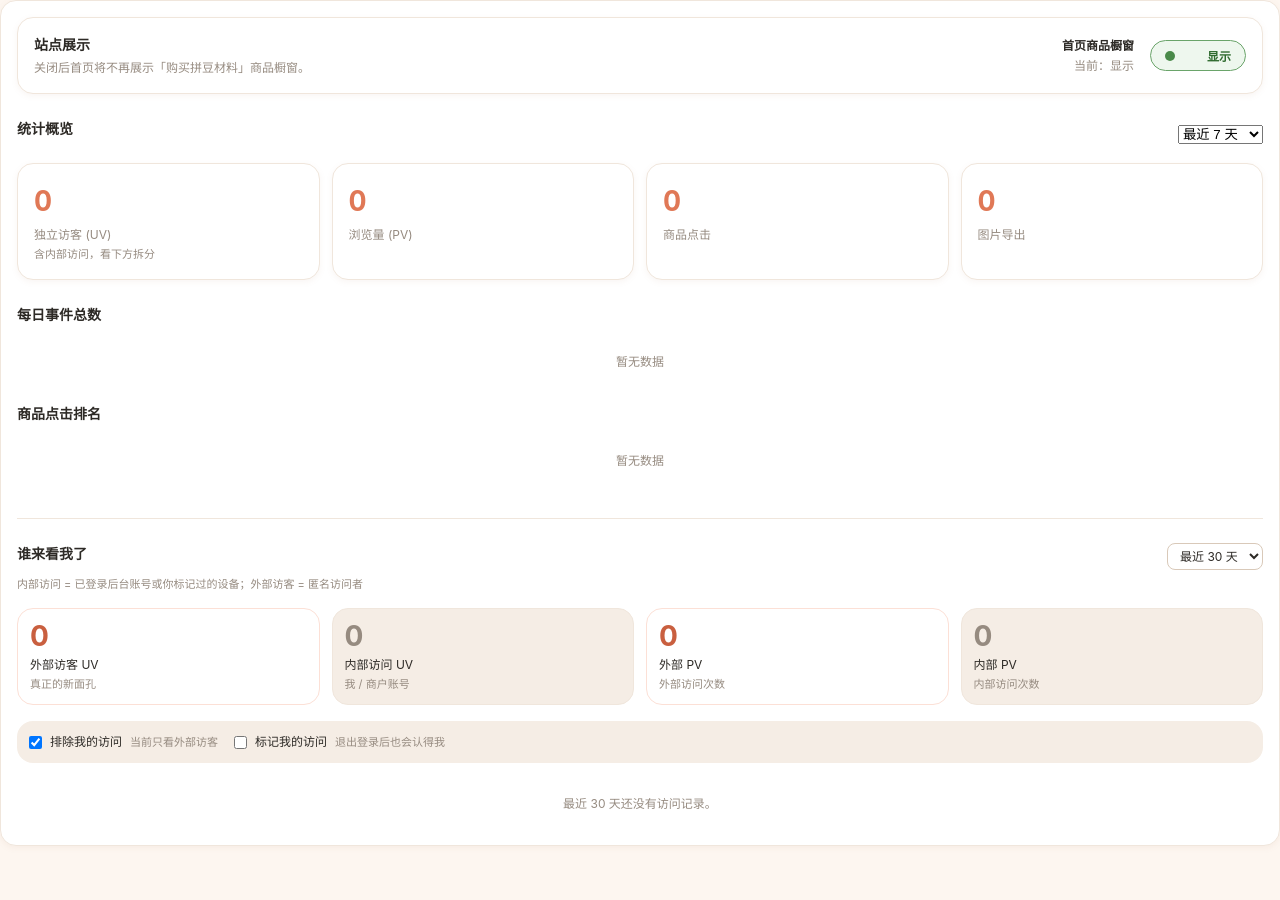
Test: StatsTab site display card (admin only) › toggles showProducts and persists via PUT
Check: the text "当前：显示" is shown, box [1074,56,1134,74]
Click the button with test id "site-toggle-products".
click(1198, 56)  # box [1150,40,1246,71]
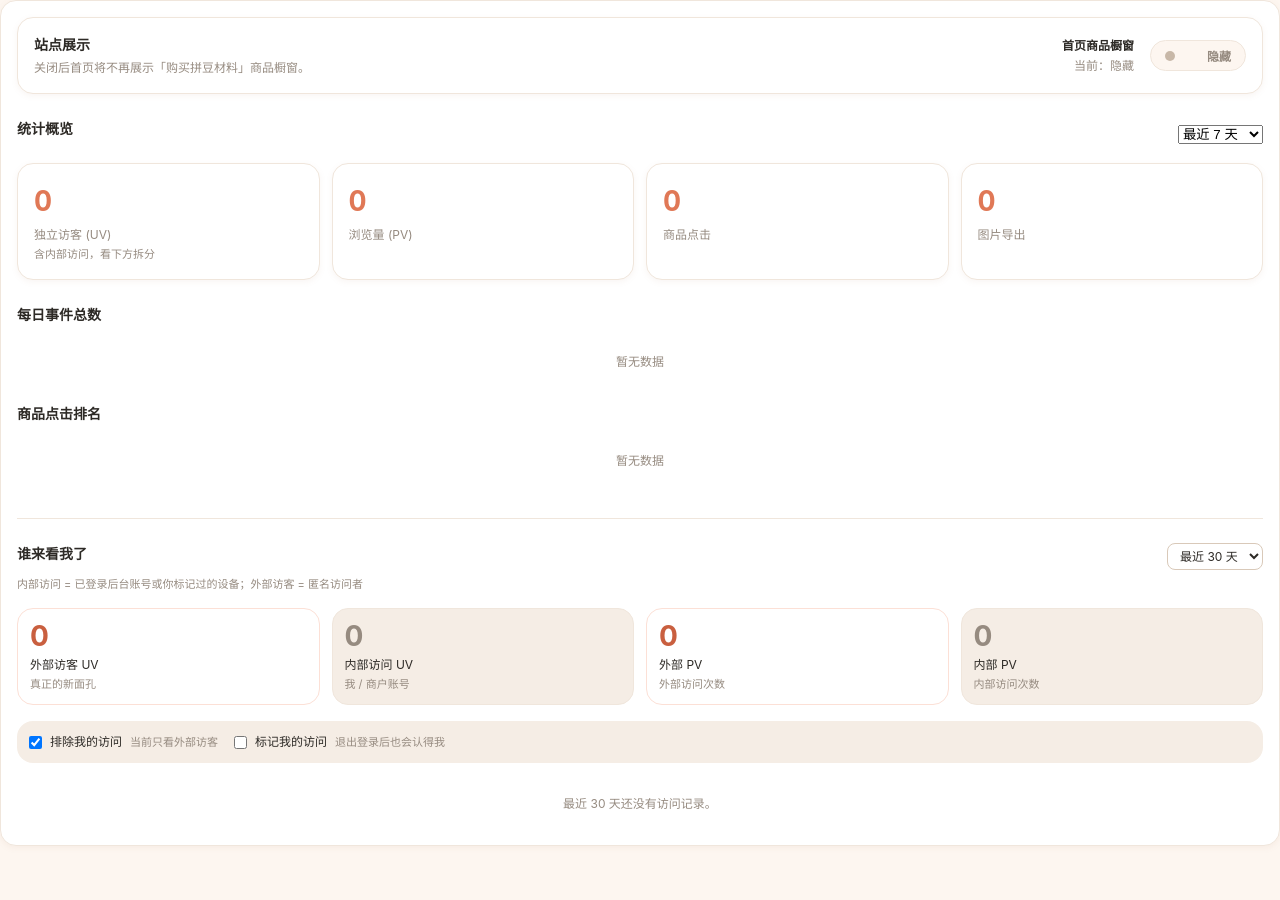
Check: the text "当前：隐藏" is shown, box [1074,56,1134,74]
